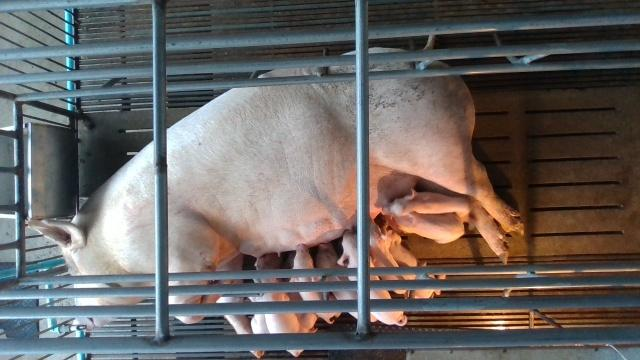piglet: (337, 231, 408, 325), (315, 242, 378, 323), (382, 224, 446, 298), (289, 241, 338, 325), (369, 217, 411, 295), (381, 186, 472, 218), (248, 280, 300, 335), (391, 215, 465, 243)
sow-sleep-lactate: (28, 48, 524, 358)
